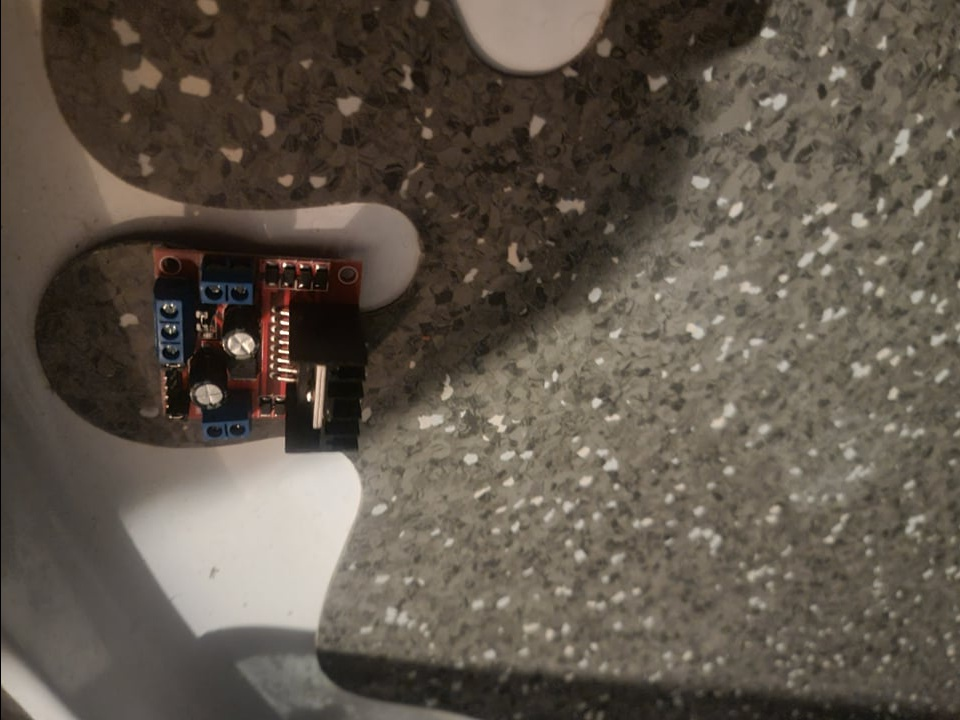MOTOR: (143, 240, 364, 458)
